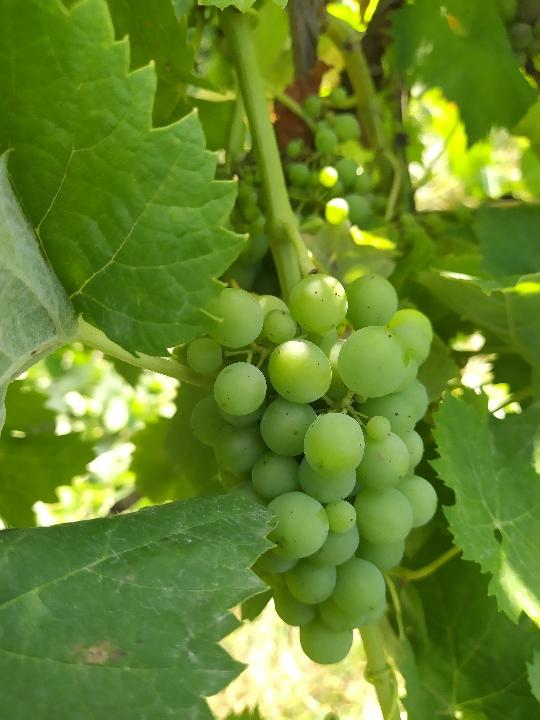grape: (189, 269, 441, 667)
